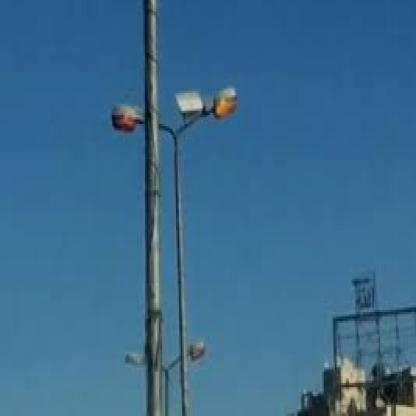light_pole: (113, 84, 239, 414), (125, 339, 208, 414)
